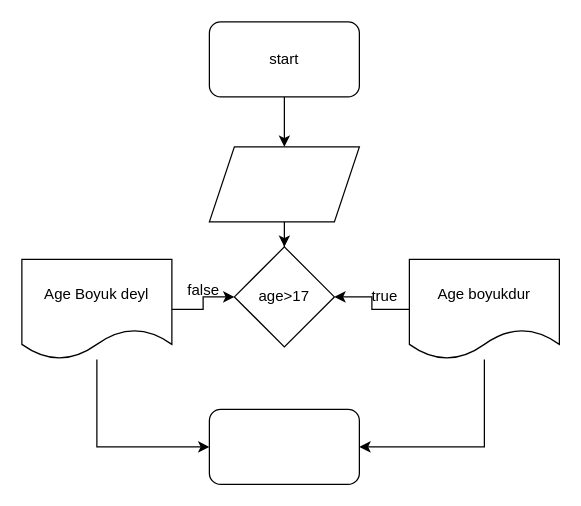
Image size: 581x506. Some labels were removed from this diagram. Here are the shapes that lost their labels. From the top down, the box of each, then its label:
(208, 146, 359, 222): age=18
(208, 408, 359, 484): End
